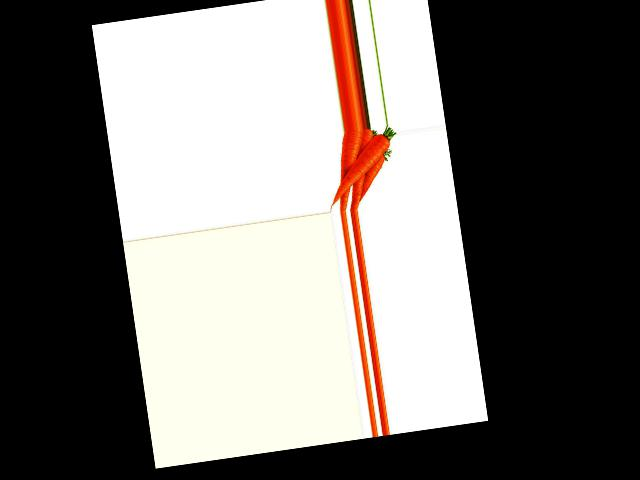carrot: (338, 129, 370, 192)
